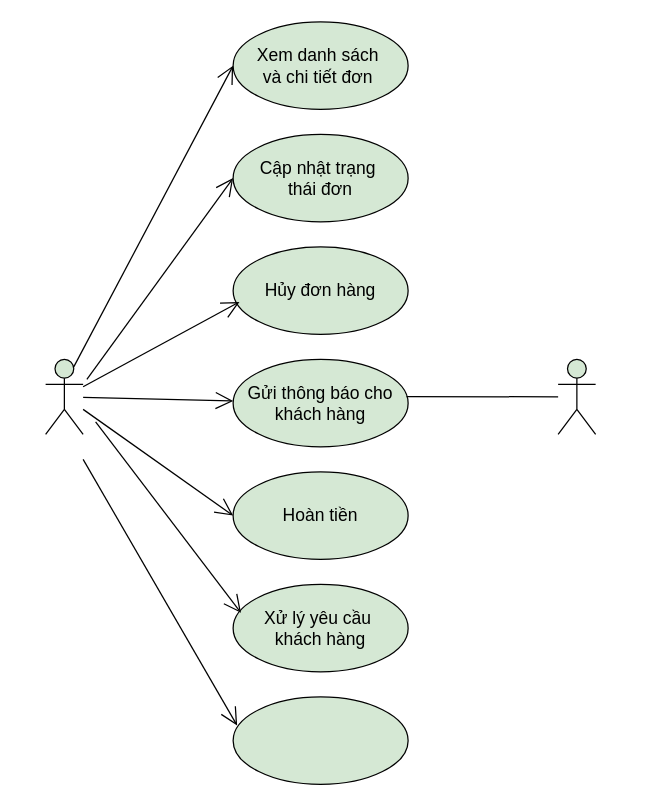
The diagram is 649 pixels wide and 806 high, and some of its shapes have lost their labels. The shapes that lost their labels are listed below. From the top down, each one's centre as x and y in pixels, then its label:
At pixel 63 396: "Quản trị viên".
At pixel 576 396: "Hệ thống email".
At pixel 320 740: "In hóa đơn/Vận chuyển".
